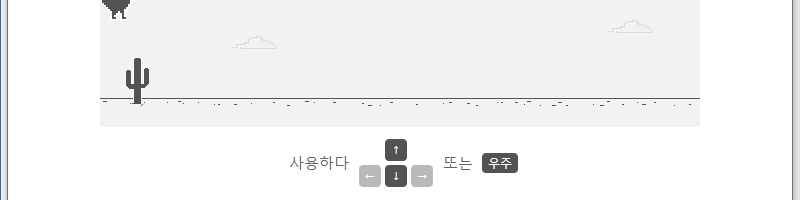dinosaur: (101, 1, 137, 19)
obstacle: (123, 56, 151, 106)
